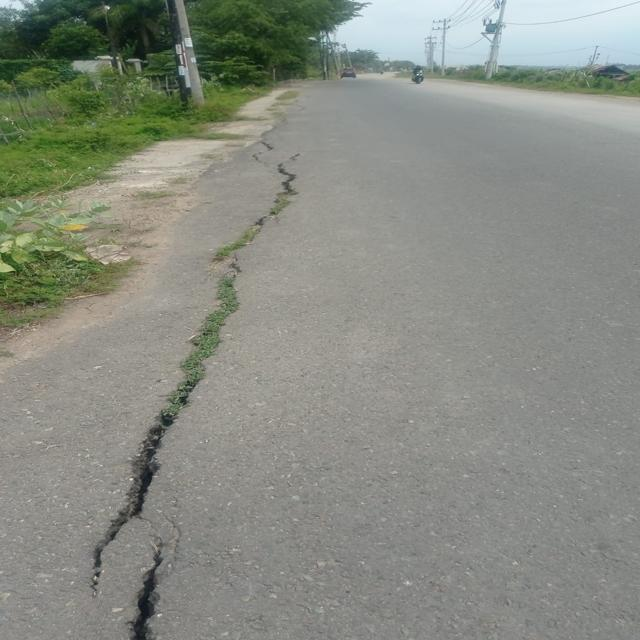Memanjang: (74, 149, 310, 606)
